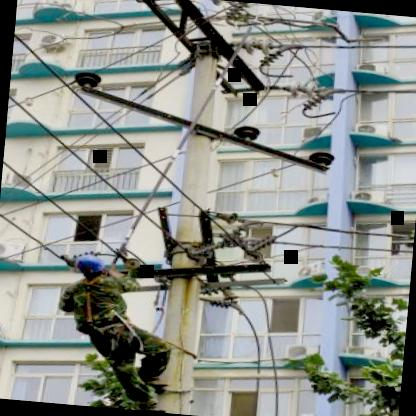helmet: (74, 254, 110, 282)
